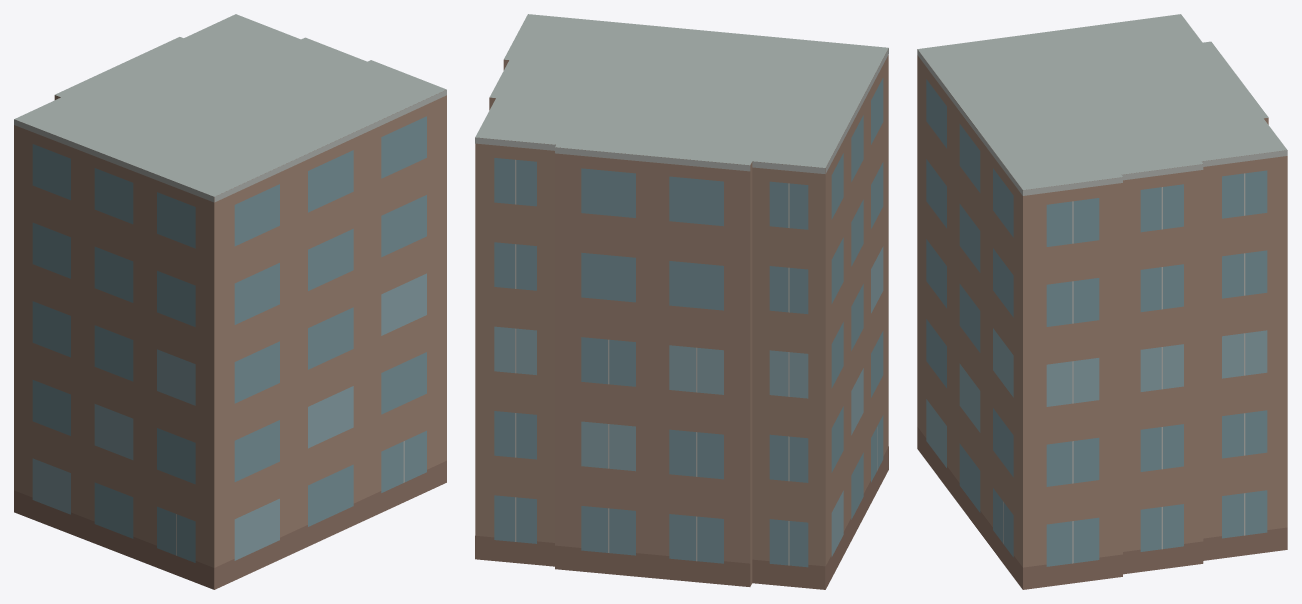
The model's file is survey-upis-32851969.glb.
3 views of the same model, side by side, from view 1: azimuth 30°, elevation 25°; view 2: azimuth 150°, elevation 25°; view 3: azimuth 270°, elevation 25° (orthographic). The views are drawn at different scales.
Parts seen in each view (by area): view 1: survey-upis-32851969.tmp; view 2: survey-upis-32851969.tmp; view 3: survey-upis-32851969.tmp.
Part boxes in pixels (x1,y1,x2,y2): survey-upis-32851969.tmp: [14, 14, 446, 589]; survey-upis-32851969.tmp: [475, 14, 888, 589]; survey-upis-32851969.tmp: [917, 14, 1287, 589].
Bounding box in the file's own units: 15.8 × 16.7 × 14.02.
